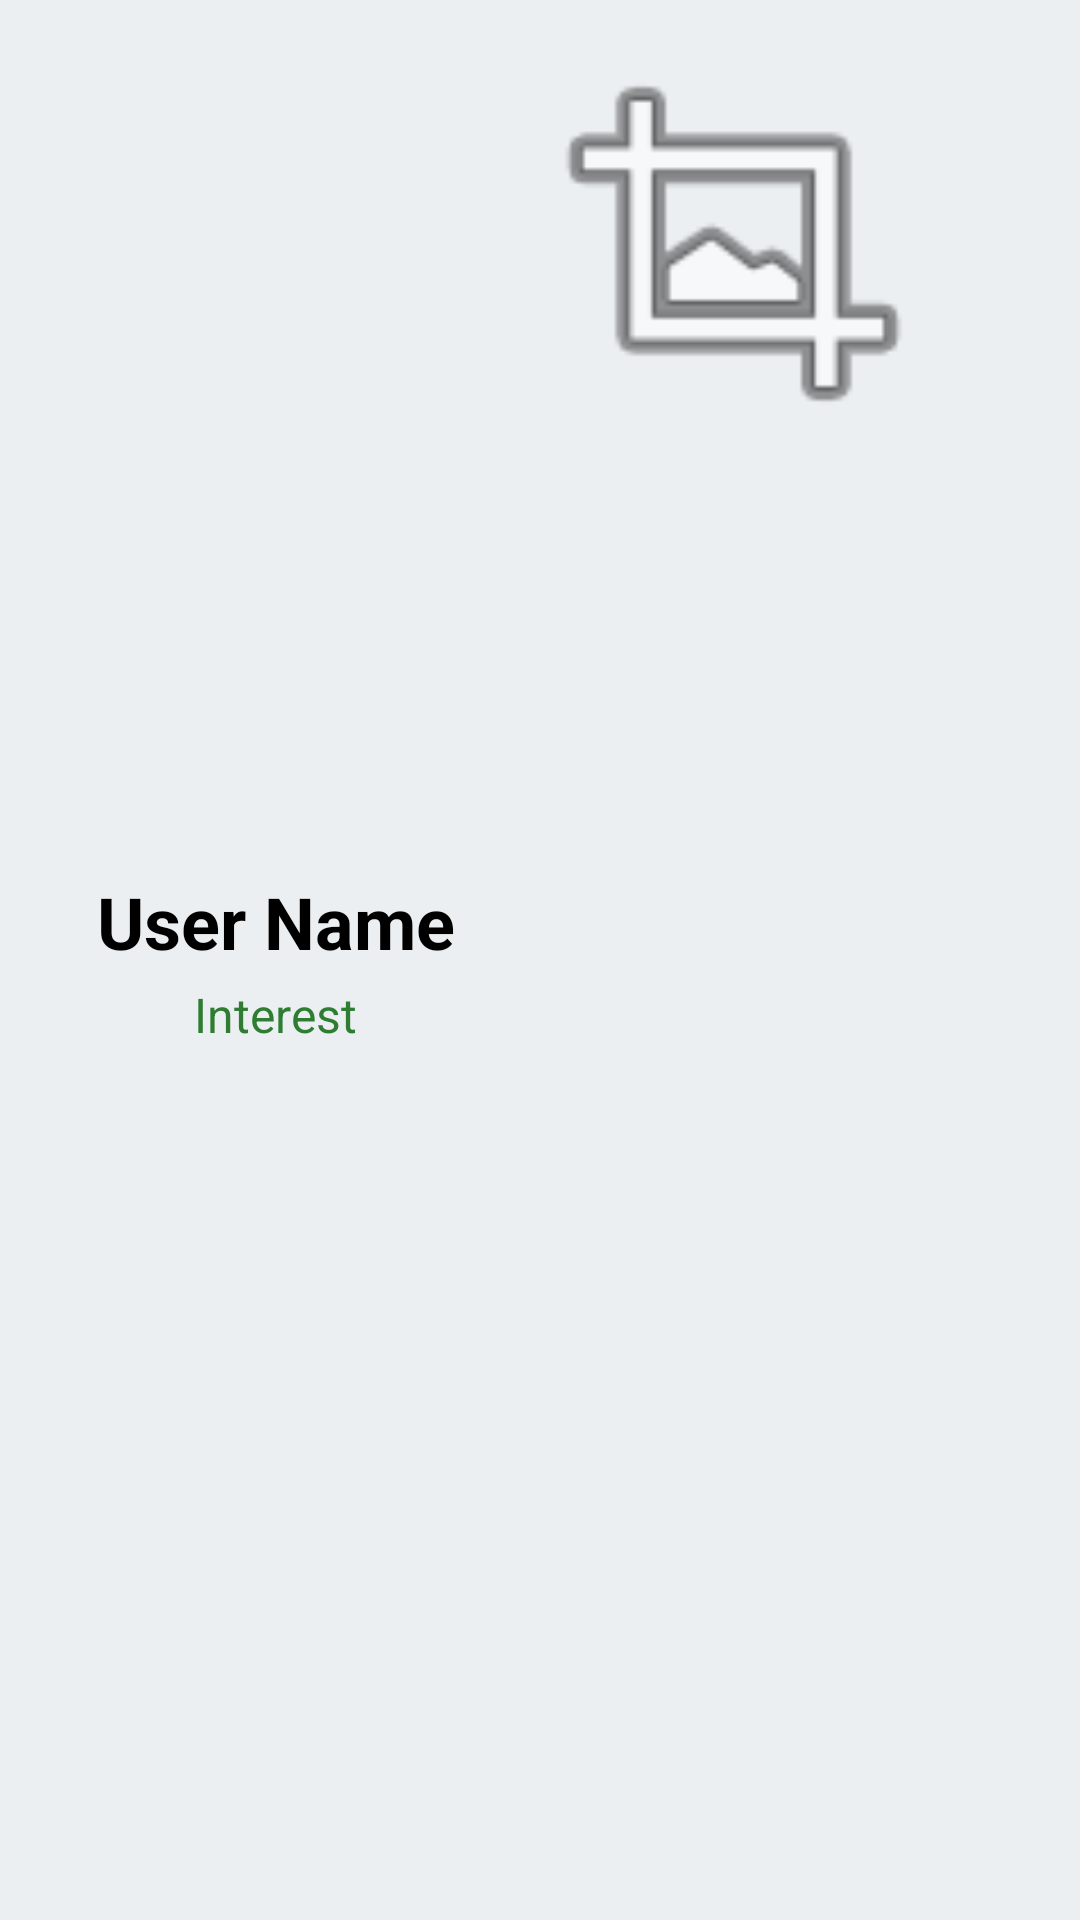

Locate icon controls on the screen. Image size 1080w x 1920h, boxes as [x1=x1, y1=y1, x2=x2, y2=y2].
crop: [x1=568, y1=86, x2=899, y2=401]
